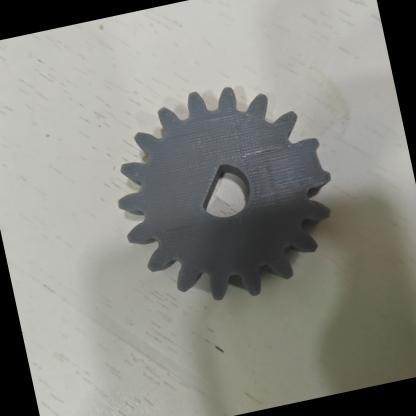defect: (184, 150, 248, 224), (288, 127, 338, 190)
gear: (98, 68, 351, 319)
